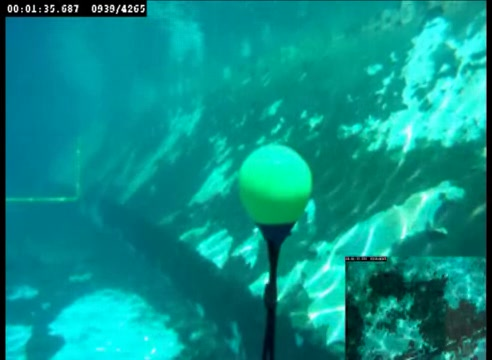buoy_green: (238, 142, 315, 244)
